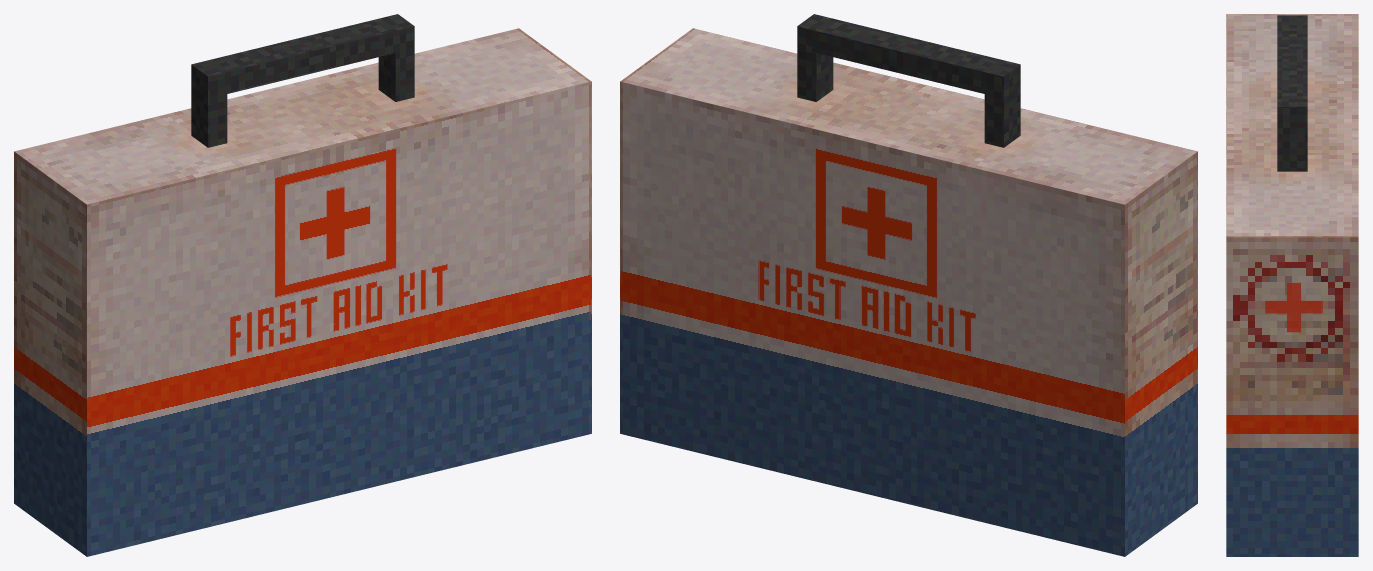
File: Med_2.glb
3 views of the same model, side by side, from view 1: azimuth 30°, elevation 25°; view 2: azimuth 150°, elevation 25°; view 3: azimuth 270°, elevation 25° (orthographic). The views are drawn at different scales.
Parts seen in each view (by area): view 1: Med_2; view 2: Med_2; view 3: Med_2.
Part boxes in pixels (<box>): Med_2: <box>14,14,591,556</box>; Med_2: <box>620,14,1197,556</box>; Med_2: <box>1226,14,1358,556</box>.
Bounding box in the file's own units: 30 × 24.04 × 7.5.
Materials: 1 (1 with a texture image).
